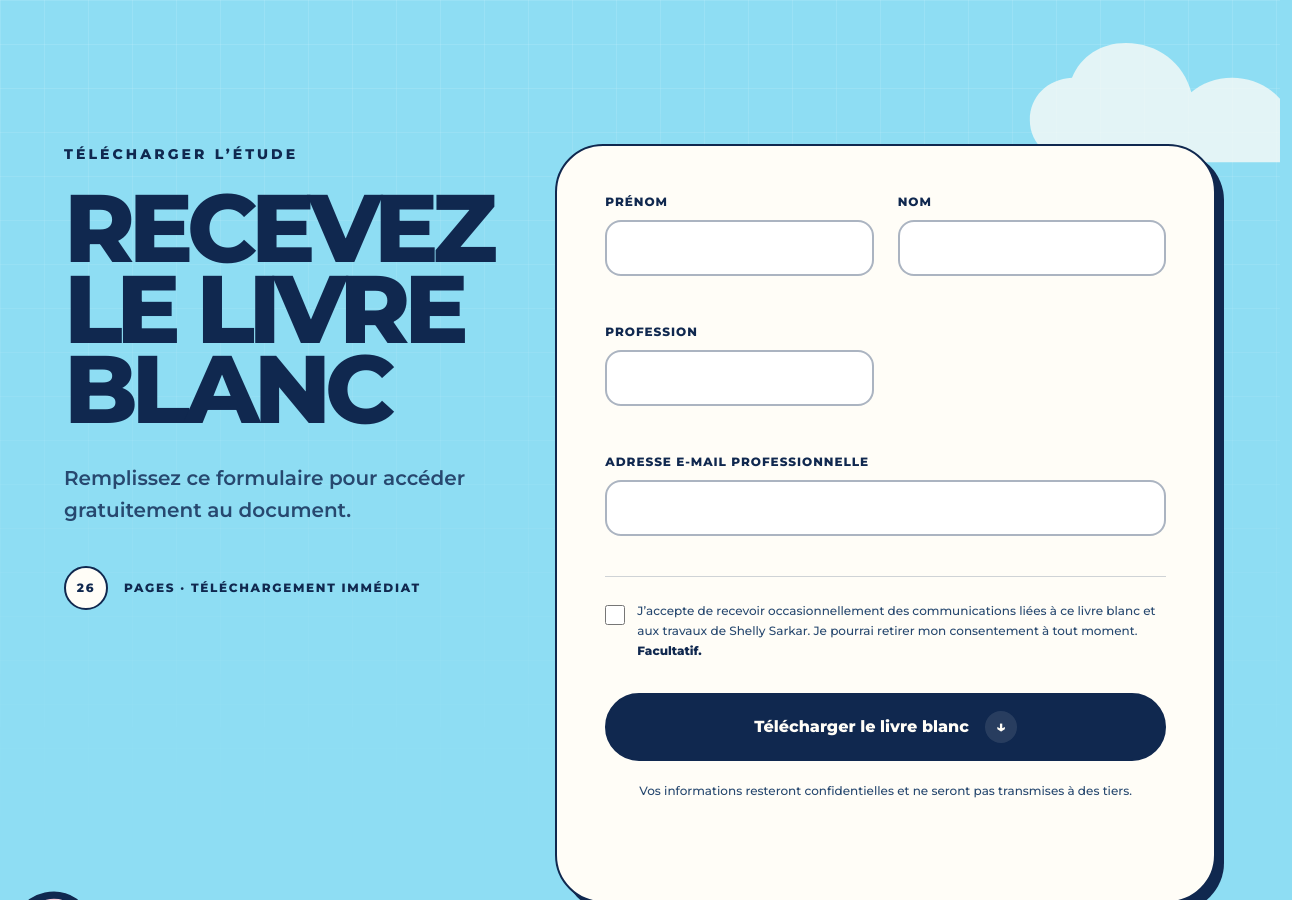
Test case: download form › keeps values and permits a retry when Formspree returns an HTTP error
Type "Camille" into the field labelled "Prénom" at coordinates (739, 248), box [605,220,874,276]
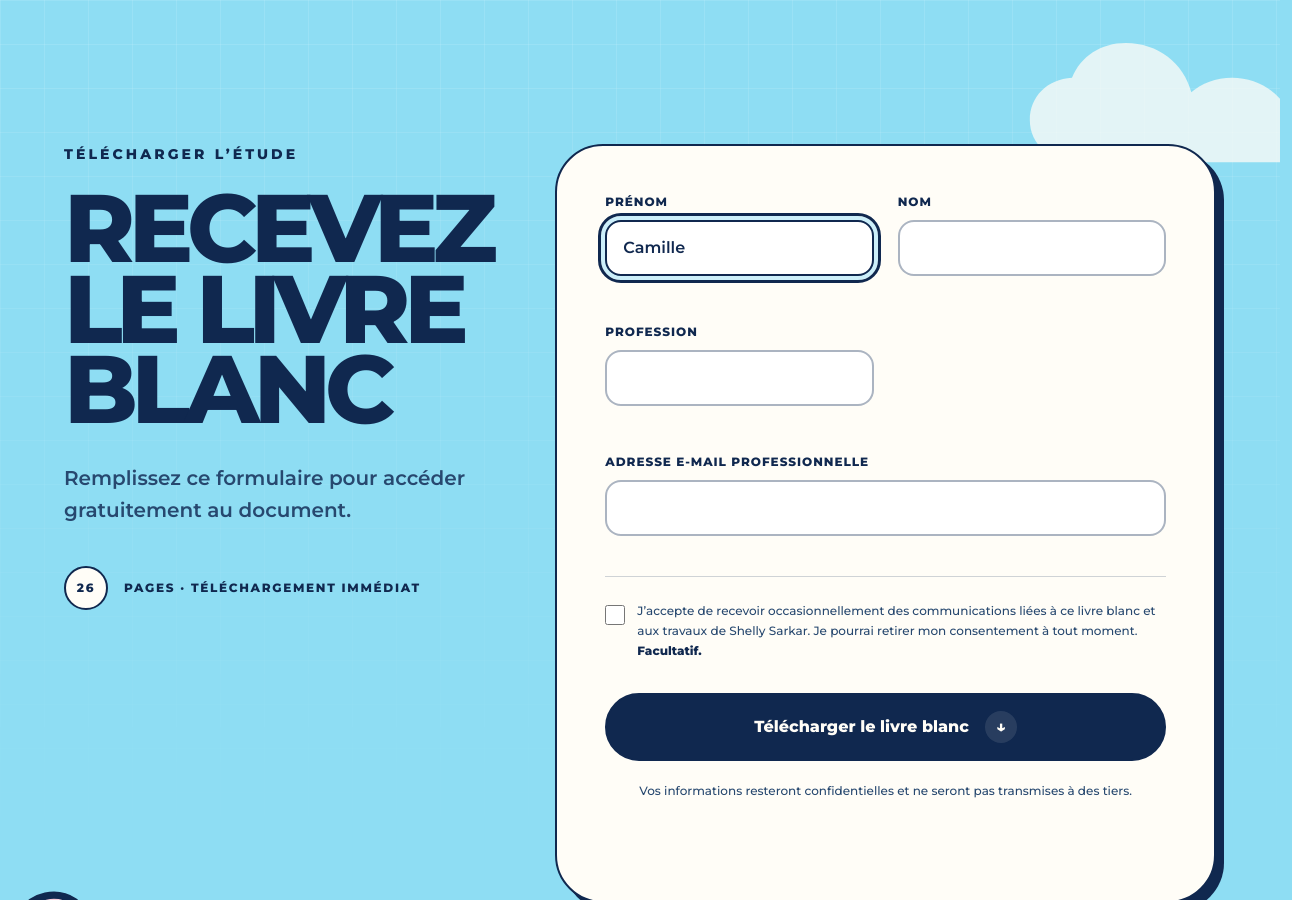
Type "Martin" into the field labelled "Nom" at coordinates (1032, 248), box [898,220,1166,276]
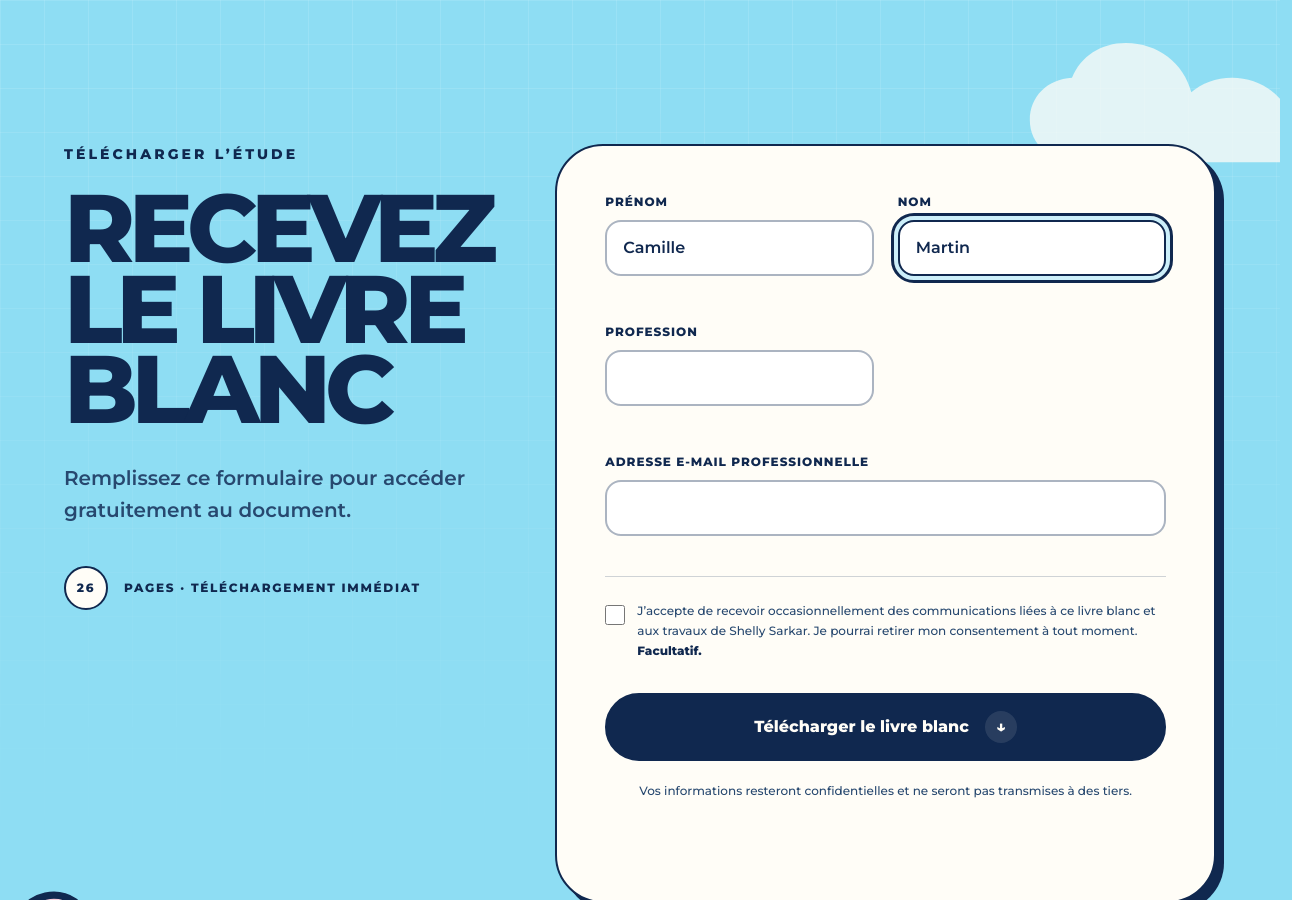
Type "Planneuse stratégique" into the field labelled "Profession" at coordinates (739, 378), box [605,350,874,406]
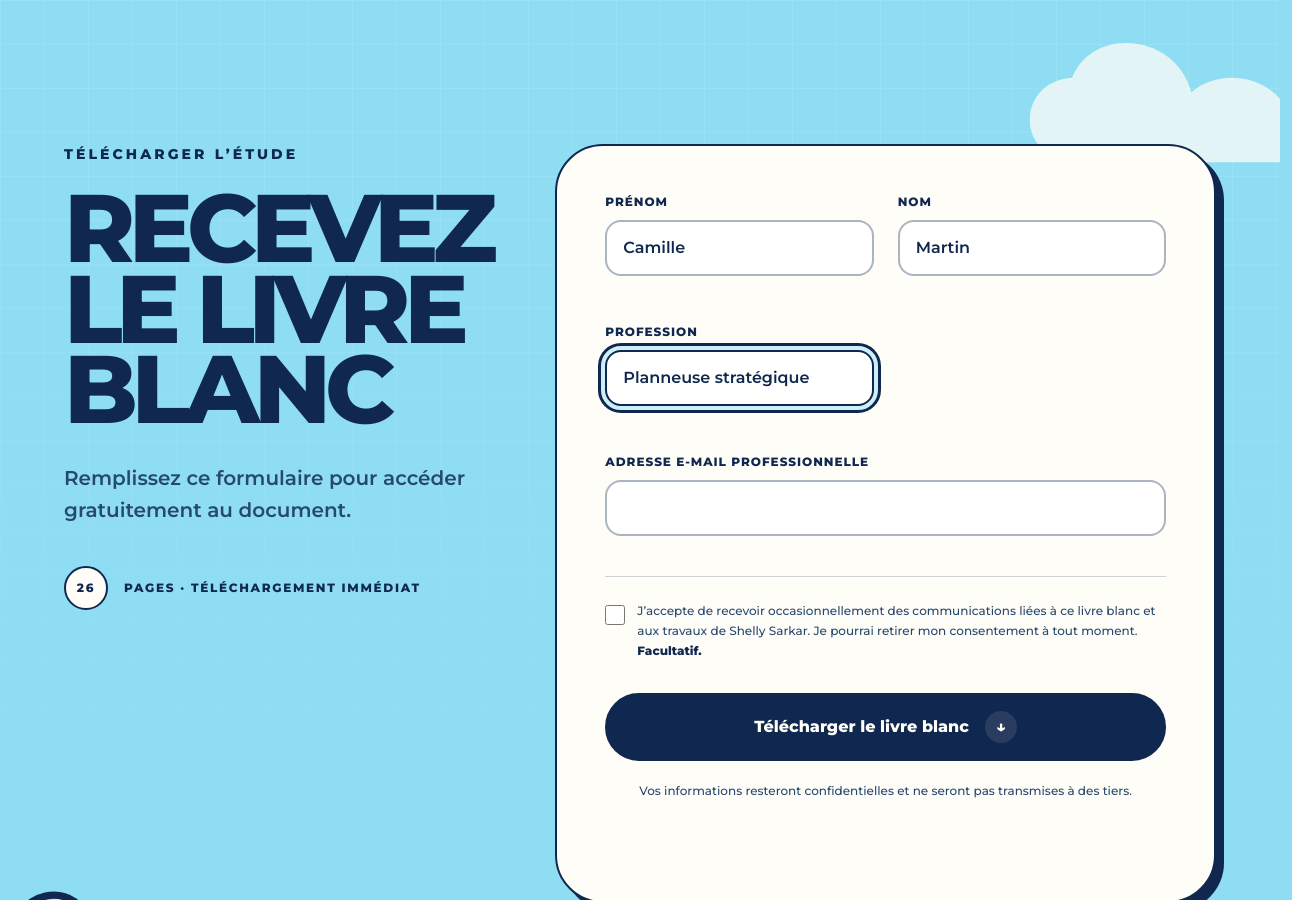
Type "camille@example.com" into the field labelled "Adresse e-mail professionnelle" at coordinates (886, 508), box [605,480,1166,536]
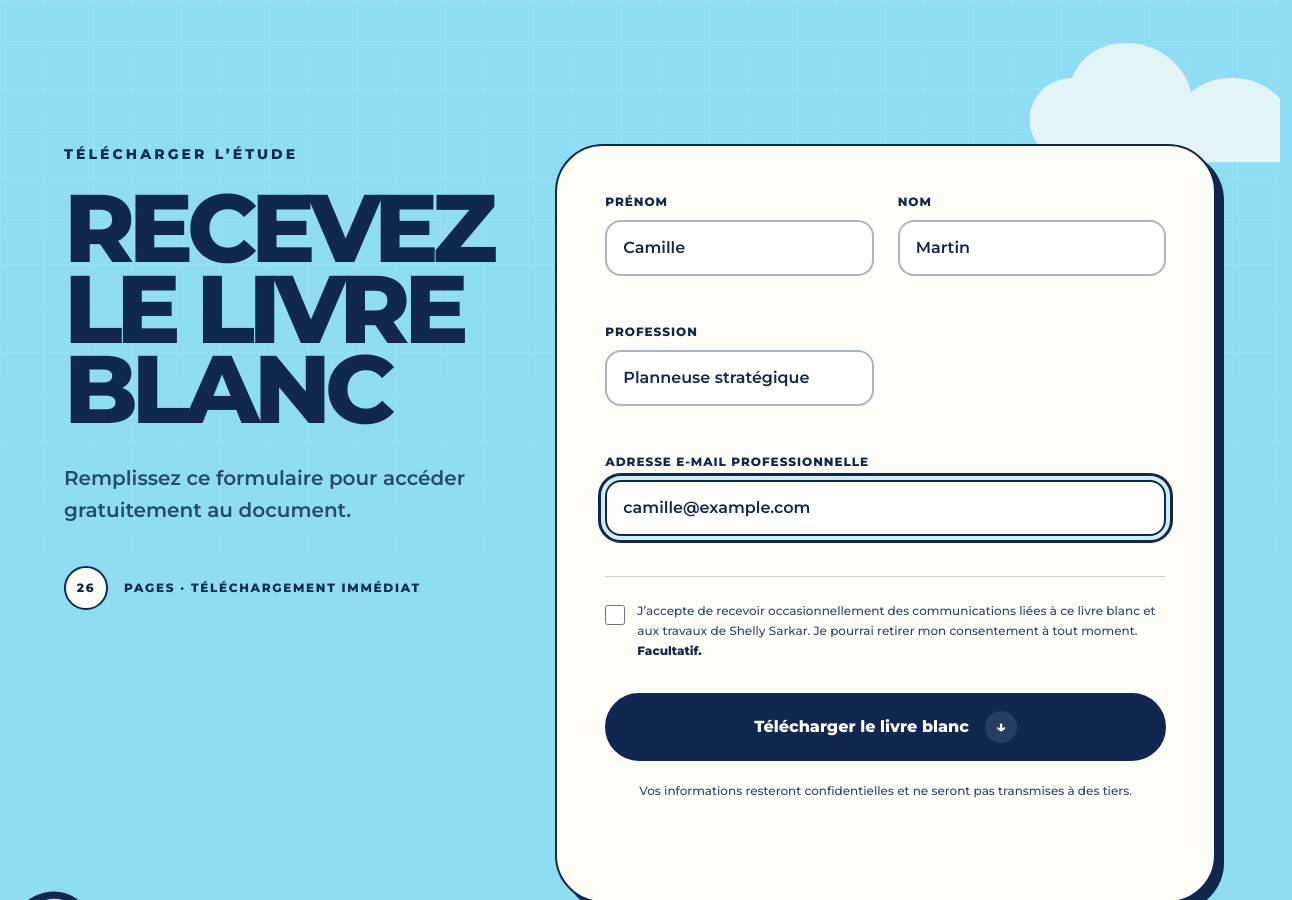
Click the button "Télécharger le livre blanc ↓" at coordinates (886, 727), box [605,693,1166,761]
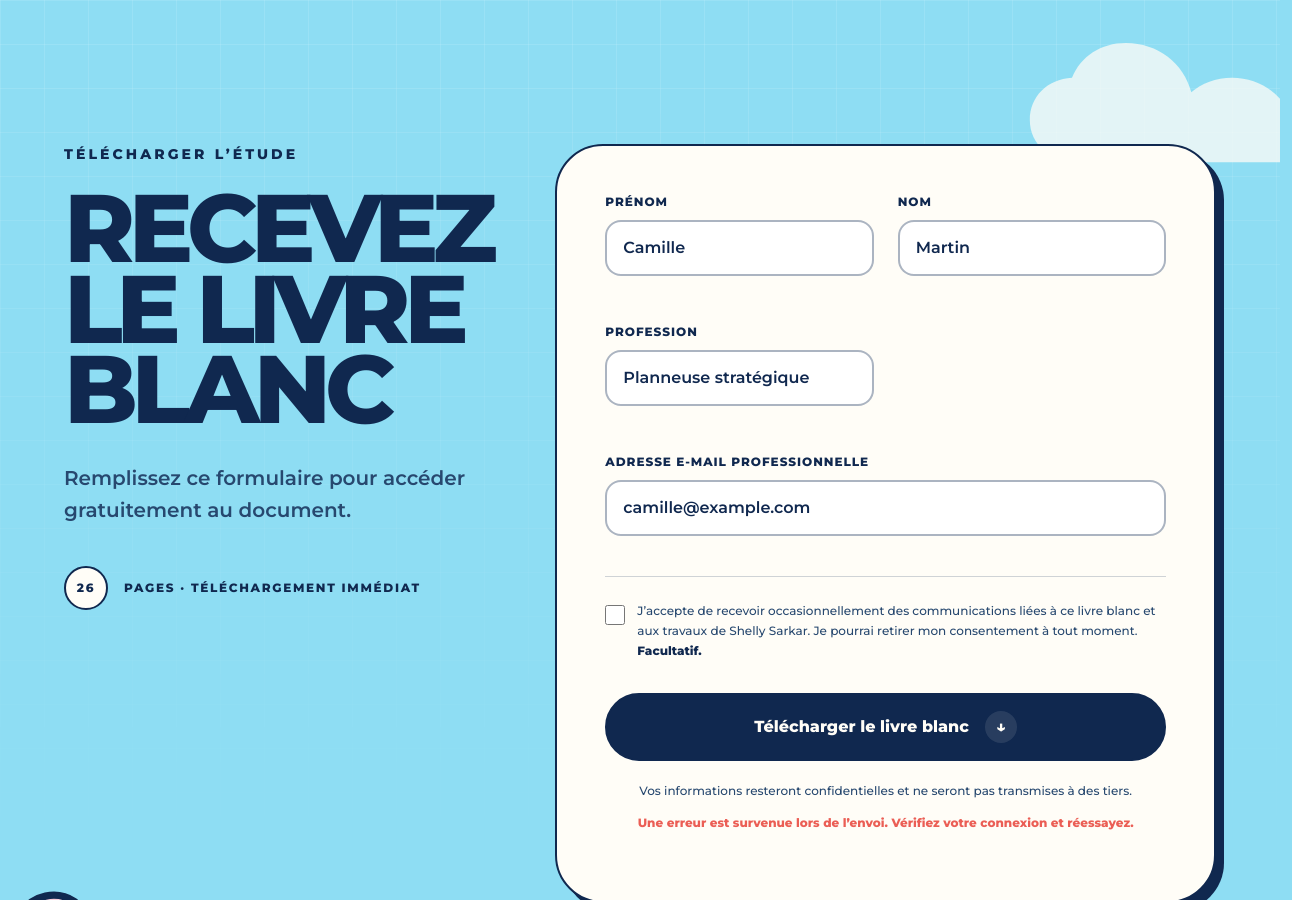
Check: the message shows "Une erreur est survenue lors de l’envoi", box [638,815,1134,830]
